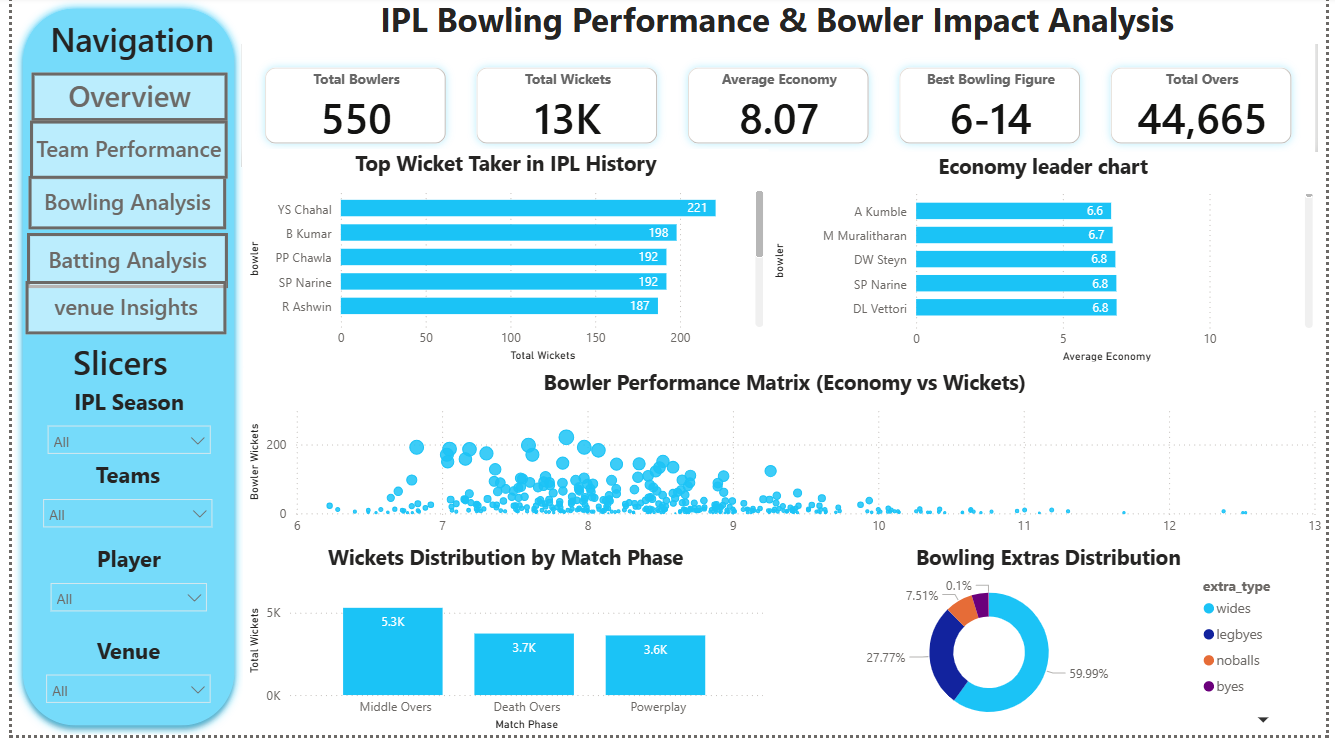

Layout of this report page (visuals, bound fields, positions):
{"tool":"powerbi","page":{"name":"Bowling Analysis","canvas":[1280,720],"ordinal":3},"visuals":[{"type":"group","id":"g1","title":"Group 1","box":[1.9,3.6,223.4,716.4],"z":0},{"type":"shape","box":[1.9,3.6,224.2,716.9],"z":500,"group":"g1"},{"type":"textbox","title":"IPL Bowling Performance & Bowler Impact Analysis","box":[353.7,0,802.1,47.4],"z":1000},{"type":"cardVisual","fields":{"Data":["Calculated_Measures.Total Bowlers","Calculated_Measures.Total Wickets","Calculated_Measures.Average Economy","Calculated_Measures.Best Bowling","Calculated_Measures.Total Overs"]},"box":[224.2,47.4,1048.4,120],"z":2000},{"type":"slicer","title":"Venue","fields":{"Values":["matches.venue"]},"box":[24,622.6,180,72.6],"z":2937,"group":"g1"},{"type":"barChart","title":"Top Wicket Taker in IPL History","fields":{"Y":["Calculated_Measures.Total Wickets"],"Category":["deliveries.bowler"]},"box":[225.1,149.4,511.9,211.1],"z":3000},{"type":"barChart","title":"Economy leader chart","fields":{"Category":["deliveries.bowler"],"Y":["Calculated_Measures.Average Economy"]},"box":[736.9,151.4,535.8,209.1],"z":4000},{"type":"scatterChart","title":"Bowler Performance Matrix (Economy vs Wickets)","fields":{"X":["Calculated_Measures.Bowler Economy"],"Y":["Calculated_Measures.Bowler Wickets"],"Category":["deliveries.bowler"],"Size":["Calculated_Measures.Bowler Wickets"]},"box":[225.1,362.5,1055.6,171.3],"z":5000},{"type":"actionButton","box":[19.3,74.7,191.1,47.4],"z":5375,"group":"g1"},{"type":"slicer","title":"IPL Season","fields":{"Values":["matches.Season Label"]},"box":[25.6,381,178.4,71.1],"z":5679,"group":"g1"},{"type":"actionButton","box":[16.1,175.7,192.6,52.1],"z":5984,"group":"g1"},{"type":"donutChart","title":"Bowling Extras Distribution","fields":{"Y":["CountNonNull(deliveries.ball)"],"Category":["deliveries.extra_type"]},"box":[737.4,533.7,543.2,184.7],"z":6000},{"type":"slicer","title":"Player","fields":{"Values":["deliveries.batter"]},"box":[28.7,534.1,172.1,75.8],"z":6288,"group":"g1"},{"type":"actionButton","box":[14.5,231,195.8,53.7],"z":6593,"group":"g1"},{"type":"columnChart","title":"Wickets Distribution by Match Phase","fields":{"Category":["deliveries.Match Phase"],"Y":["Calculated_Measures.Total Wickets"]},"box":[225.8,533.7,511.6,186.3],"z":7000},{"type":"slicer","title":"Teams","fields":{"Values":["matches.team1"]},"box":[20.8,452,184.7,69.5],"z":7202,"group":"g1"},{"type":"actionButton","box":[13,278.3,195.8,52.1],"z":7812,"group":"g1"},{"type":"textbox","box":[7.7,329.1,196.4,63.6],"z":10250,"group":"g1"},{"type":"textbox","box":[31.9,14.7,178.4,60],"z":10750,"group":"g1"},{"type":"actionButton","box":[17.7,122,192.6,56.8],"z":11250,"group":"g1"}]}

Visuals, with their boxes in screenshot pixels (x1, y1, x2, y2), scaled from the page's 1280x720 canvas onto the 1335x738 screenshot:
"Group 1" group: (2,4,235,737)
shape: (2,4,236,737)
"IPL Bowling Performance & Bowler Impact Analysis" textbox: (369,0,1205,49)
cardVisual - Calculated_Measures.Total Bowlers x Calculated_Measures.Total Wickets: (234,49,1327,172)
"Venue" slicer: (25,638,213,713)
"Top Wicket Taker in IPL History" barChart: (235,153,769,370)
"Economy leader chart" barChart: (769,155,1327,370)
"Bowler Performance Matrix (Economy vs Wickets)" scatterChart: (235,372,1334,547)
actionButton: (20,77,219,125)
"IPL Season" slicer: (27,391,213,463)
actionButton: (17,180,218,233)
"Bowling Extras Distribution" donutChart: (769,547,1334,736)
"Player" slicer: (30,547,209,625)
actionButton: (15,237,219,292)
"Wickets Distribution by Match Phase" columnChart: (236,547,769,737)
"Teams" slicer: (22,463,214,535)
actionButton: (14,285,218,339)
textbox: (8,337,213,403)
textbox: (33,15,219,77)
actionButton: (18,125,219,183)
